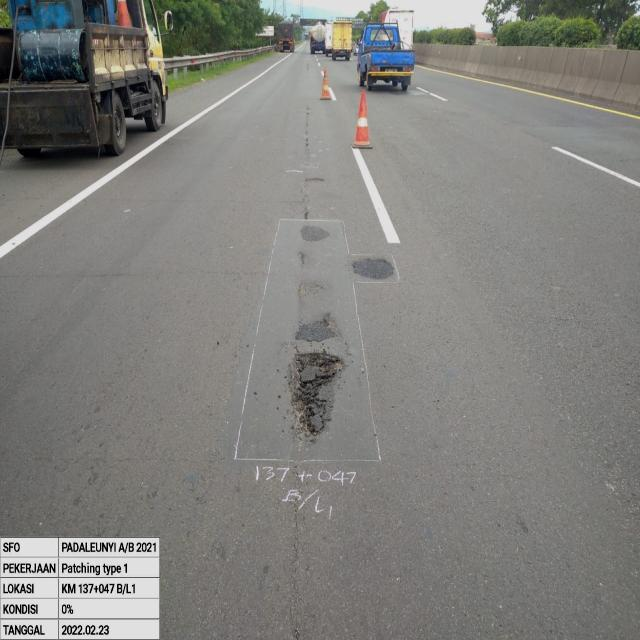Buraco: (284, 348, 348, 446), (300, 175, 328, 185)
